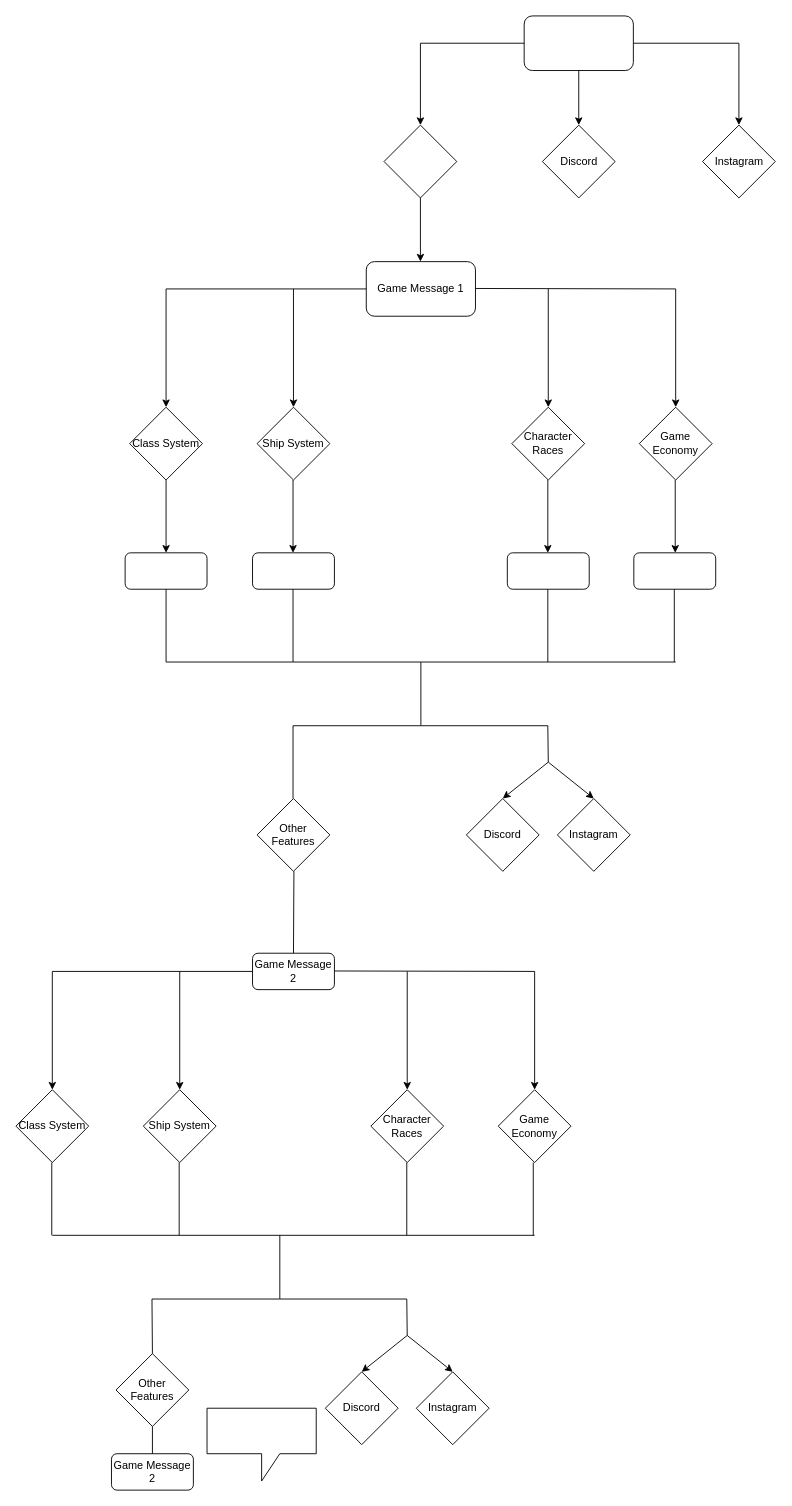
The diagram is 792 pixels wide and 1506 high, and some of its shapes have lost their labels. The shapes that lost their labels are listed below. From the top down, each one's centre as x and y in pixels, then its label:
[578,43]: Welcome Message
[420,161]: About Game
[165,570]: Class Message
[293,570]: Ship Message
[547,570]: Character Message
[674,570]: Economy Message
[261,1444]: And the process may repeat itself infinite times
